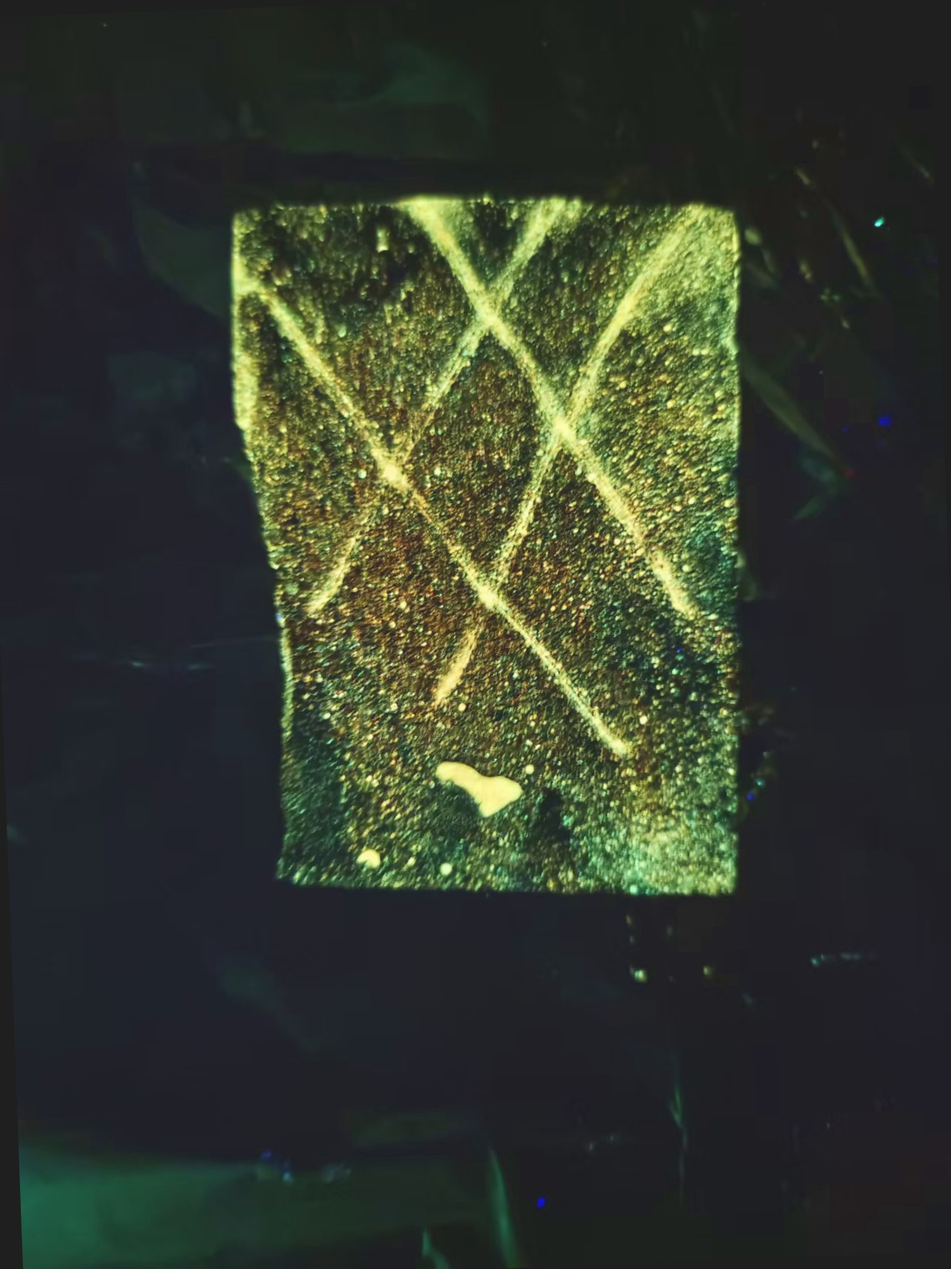Fissure: (225, 263, 643, 783), (400, 199, 722, 726), (406, 196, 698, 634), (283, 202, 577, 637)
